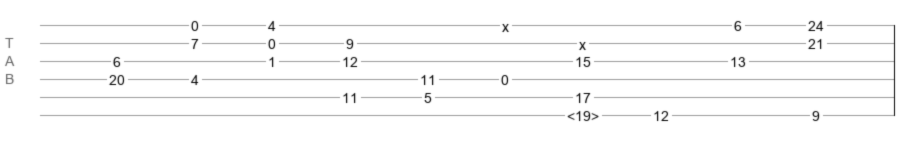0: (191, 18, 199, 28), (268, 36, 276, 46), (501, 72, 509, 82)
1: (268, 54, 276, 64)
11: (342, 90, 358, 100), (420, 72, 436, 82)
12: (342, 54, 358, 64), (653, 108, 669, 118)
13: (730, 54, 746, 64)
15: (575, 54, 591, 64)
17: (575, 90, 591, 100)
20: (109, 72, 125, 82)
21: (808, 36, 824, 46)
24: (808, 18, 824, 28)
4: (191, 72, 199, 82), (268, 18, 276, 28)
5: (424, 90, 432, 100)
6: (113, 54, 121, 64), (734, 18, 742, 28)
7: (191, 36, 199, 46)
9: (346, 36, 354, 46), (812, 108, 820, 118)
harmonic: (567, 108, 599, 118)
x: (502, 19, 509, 27), (579, 37, 586, 45)
